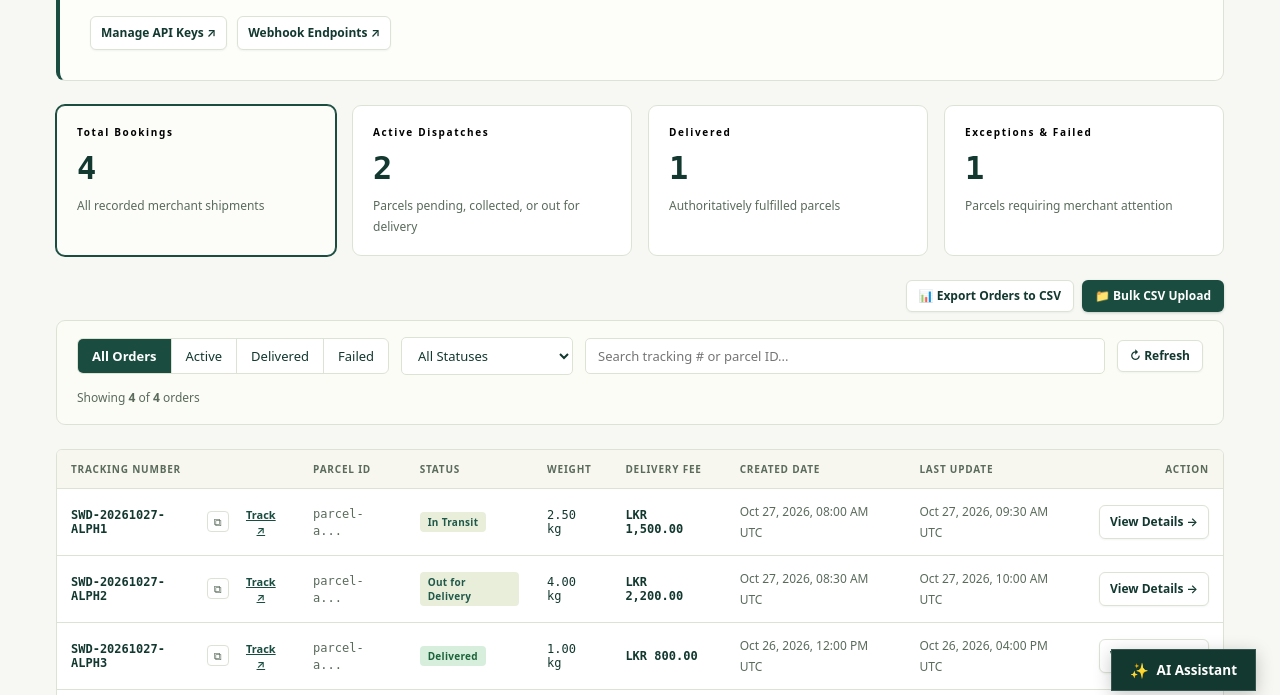
Test: MerchantOrdersDashboardPage › filters table rows when selecting quick state filter buttons
The image size is (1280, 695).
(page scrolled)
Check: the text "SWD-20261027-ALPH1" is shown, box 71,508 -> 165,536
Click Active filter
Click the radio button labelled "Active". click: point(204, 356)
box: 172,339 -> 237,373
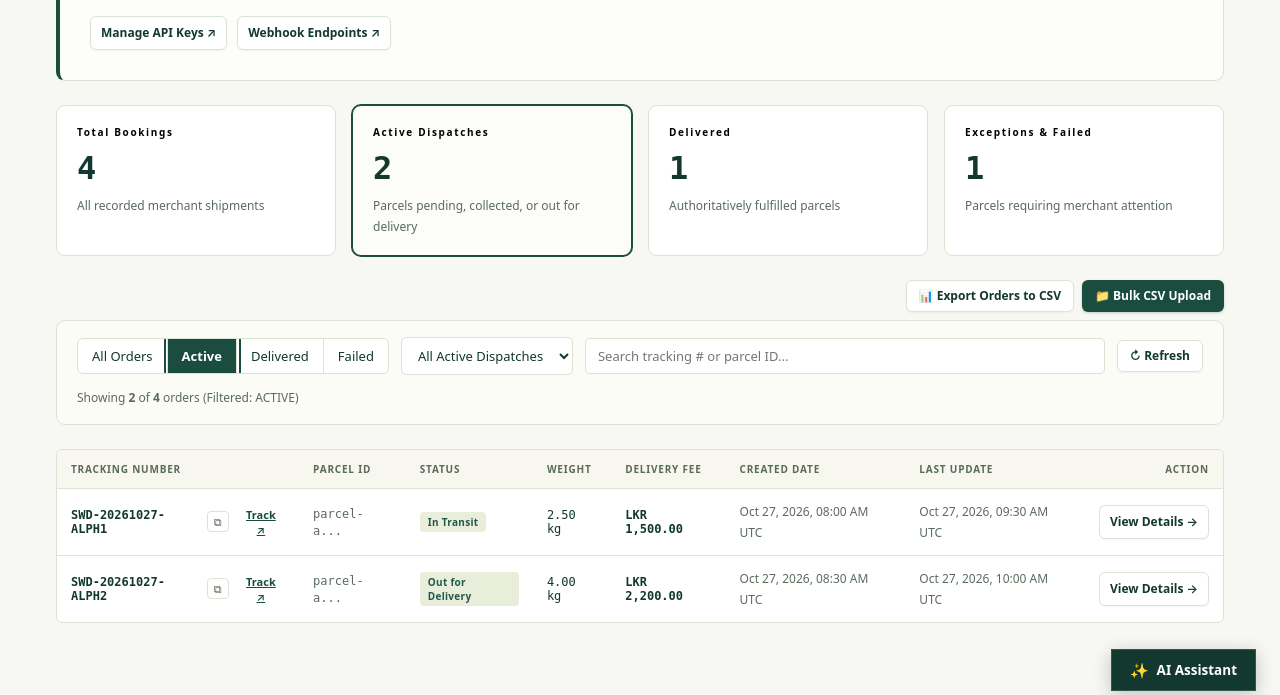
Check: the text "SWD-20261027-ALPH1" is shown, box 71,508 -> 165,536
Check: the text "SWD-20261027-ALPH3" is gone
Click Delivered filter
Click the radio button labelled "Delivered". click: point(280, 356)
box: 237,339 -> 324,373
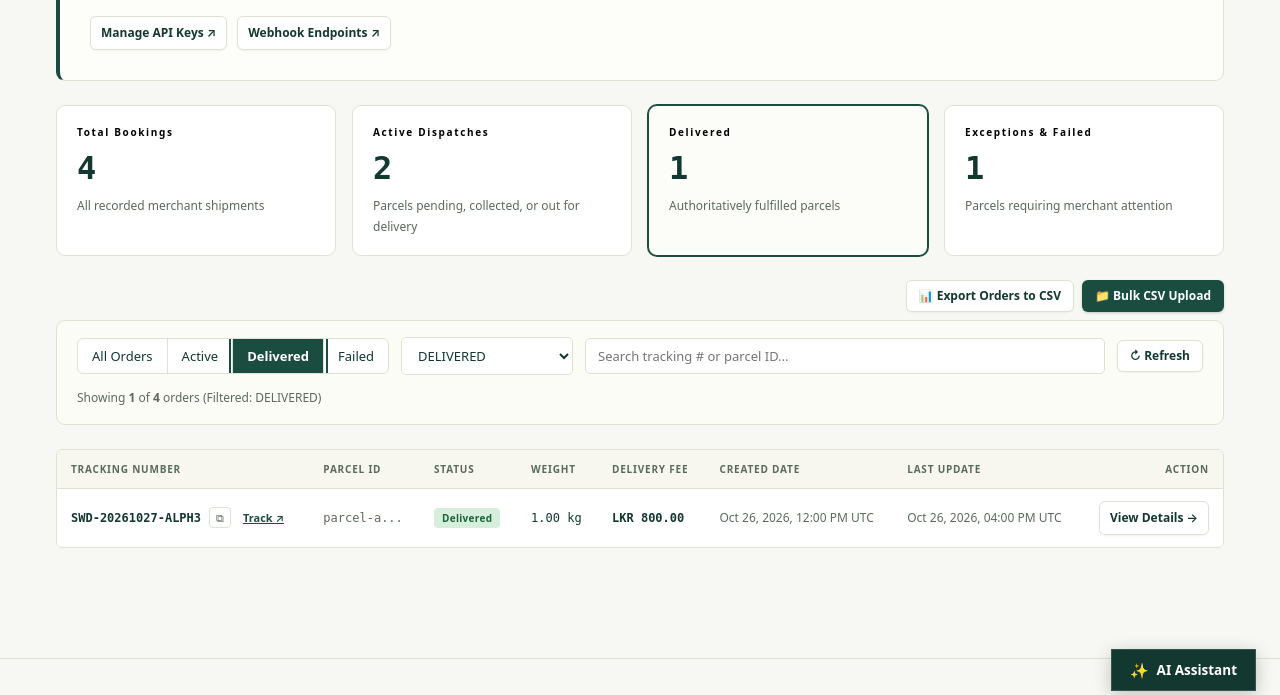
Check: the text "SWD-20261027-ALPH1" is gone
Check: the text "SWD-20261027-ALPH3" is shown, box 71,511 -> 201,525
Click All Orders to restore
Click the radio button labelled "All Orders". click: point(123, 356)
box: 78,339 -> 168,373
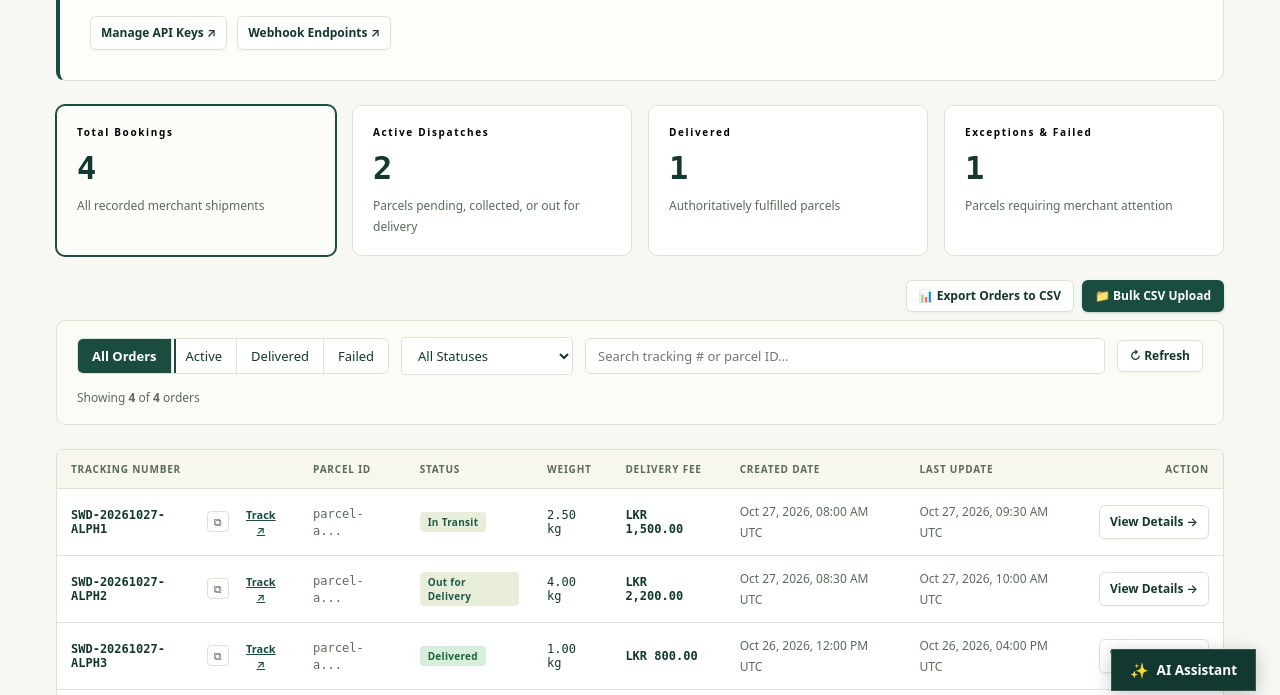
Check: the text "SWD-20261027-ALPH3" is shown, box 71,642 -> 165,670
Check: the text "SWD-20261027-ALPH1" is shown, box 71,508 -> 165,536
